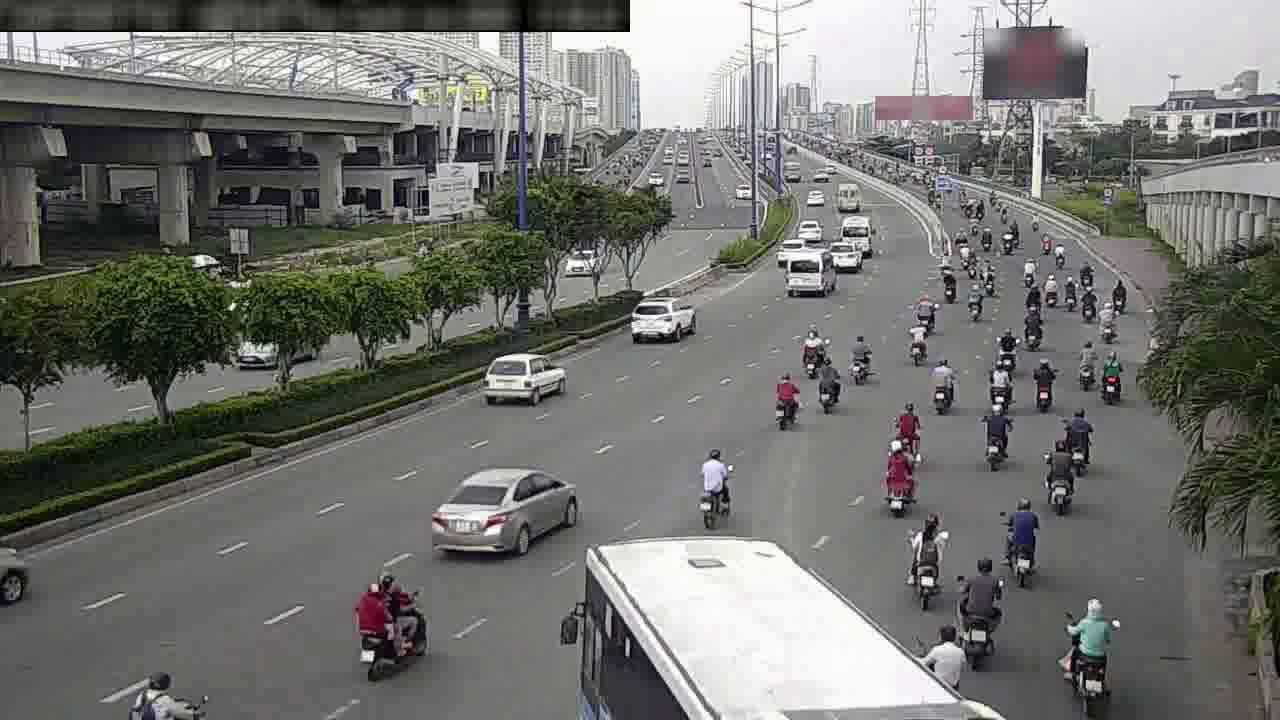14: (784, 246, 831, 297)
container: (429, 452, 582, 557), (475, 336, 573, 412), (624, 286, 699, 346)
motorbike: (350, 568, 436, 679), (943, 555, 1006, 655), (1055, 597, 1114, 691), (112, 654, 197, 718), (899, 518, 950, 607), (998, 503, 1045, 583), (689, 447, 737, 520), (971, 400, 1018, 468), (873, 449, 918, 515), (1040, 441, 1084, 508), (1052, 403, 1096, 466), (882, 396, 925, 454), (764, 374, 804, 432), (923, 355, 962, 414), (1093, 344, 1131, 404), (976, 355, 1015, 411), (842, 328, 881, 383), (807, 357, 845, 413), (1025, 356, 1062, 413), (793, 327, 831, 379), (896, 317, 933, 369), (1067, 337, 1102, 390), (1089, 299, 1123, 348), (988, 321, 1021, 367), (959, 280, 989, 325), (1018, 303, 1048, 348), (909, 292, 940, 334), (933, 264, 960, 304)
